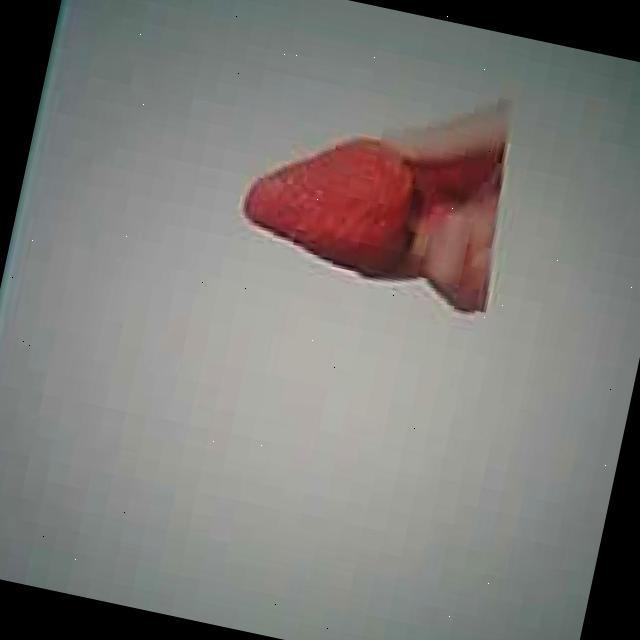strawberry: (232, 111, 428, 278)
